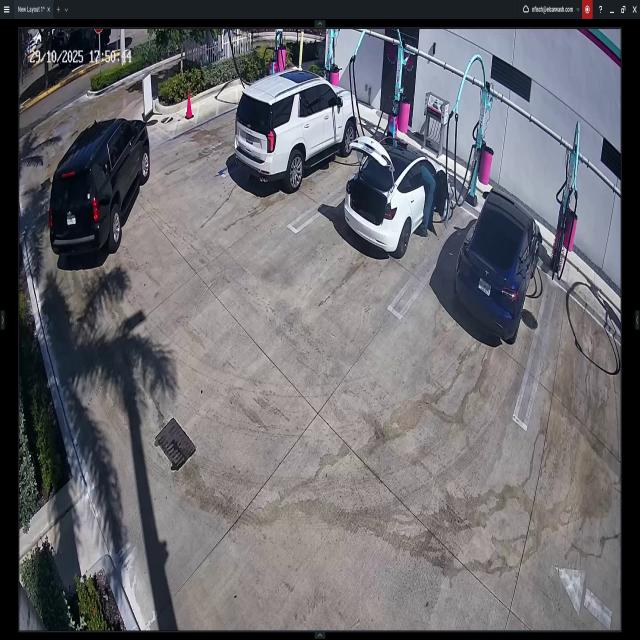Car: (49, 119, 150, 266), (235, 74, 356, 194), (341, 129, 449, 257), (457, 184, 541, 343)
